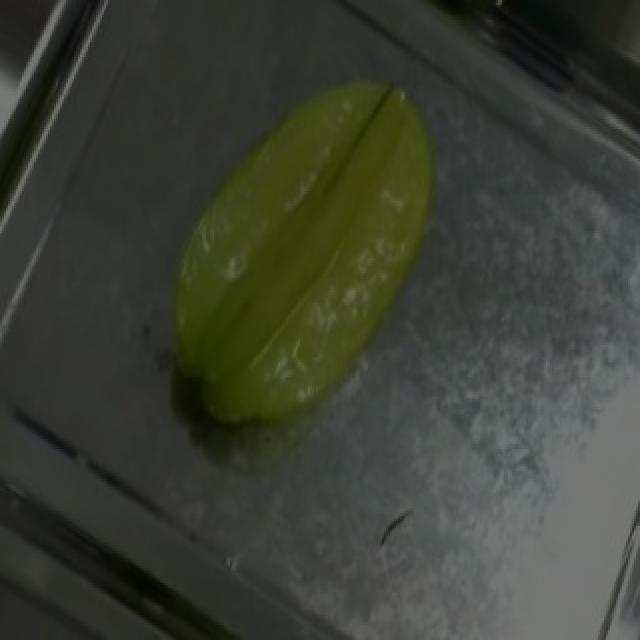fruit: (164, 37, 528, 429)
